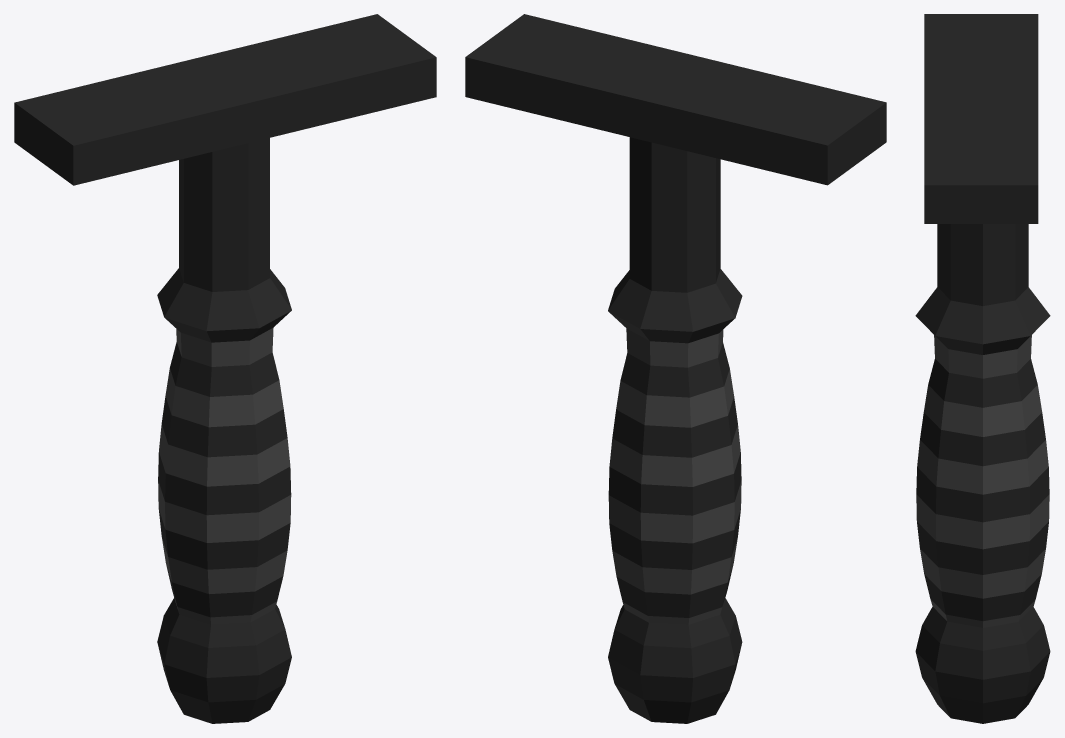
File: Accesories_Grip_V3.FBX
The picture shows the model from 3 angles, left to right: view 1: azimuth 30°, elevation 25°; view 2: azimuth 150°, elevation 25°; view 3: azimuth 270°, elevation 25°; orthographic projection. The views are drawn at different scales.
Visible parts, largest first — view 1: Accesories_Grip_V3; view 2: Accesories_Grip_V3; view 3: Accesories_Grip_V3.
Part boxes in pixels (x1,y1,x2,y2): Accesories_Grip_V3: (14,14,436,723); Accesories_Grip_V3: (465,14,886,723); Accesories_Grip_V3: (915,14,1050,723).
Bounding box in the file's own units: 45.96 × 77.24 × 15.31.
